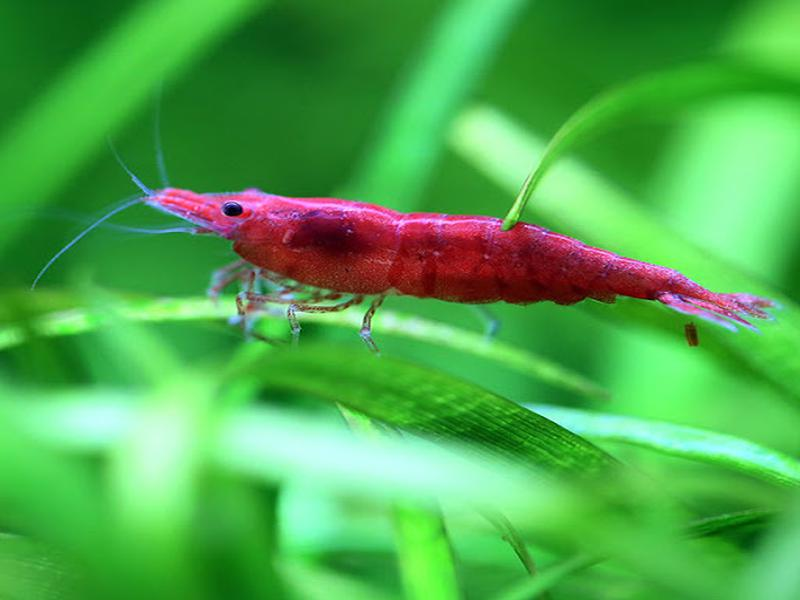shrimp: (148, 186, 779, 353)
